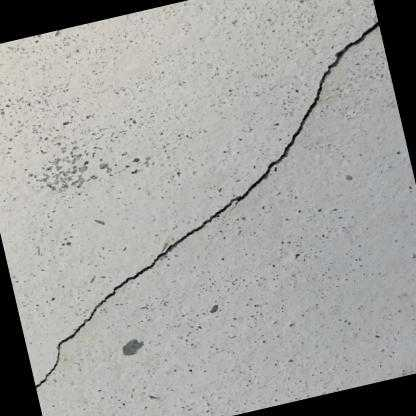crack: (35, 21, 379, 388)
